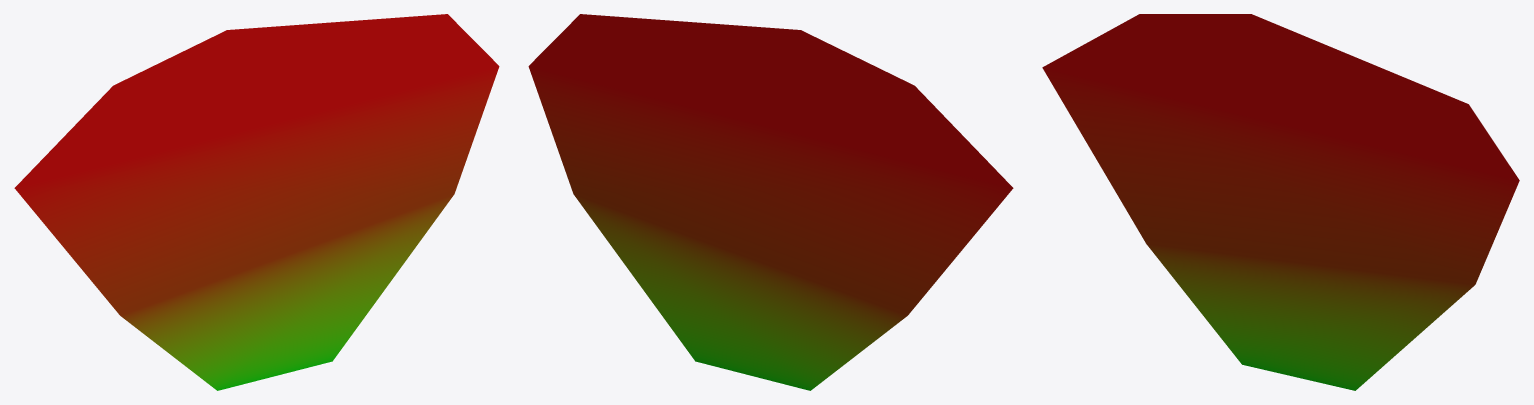
File: Var5_LOD4.fbx
3 renders of one model, left to right at view 1: azimuth 30°, elevation 25°; view 2: azimuth 150°, elevation 25°; view 3: azimuth 330°, elevation 25°, orthographic.
Visible parts, largest first — view 1: _oygi_Var5_LOD4; view 2: _oygi_Var5_LOD4; view 3: _oygi_Var5_LOD4.
Part boxes in pixels (x1,y1,x2,y2): _oygi_Var5_LOD4: (14, 14, 499, 390); _oygi_Var5_LOD4: (528, 14, 1013, 390); _oygi_Var5_LOD4: (1042, 14, 1519, 390).
Size of the model in its own units: 34.06 by 24.06 by 1.05e-06.
